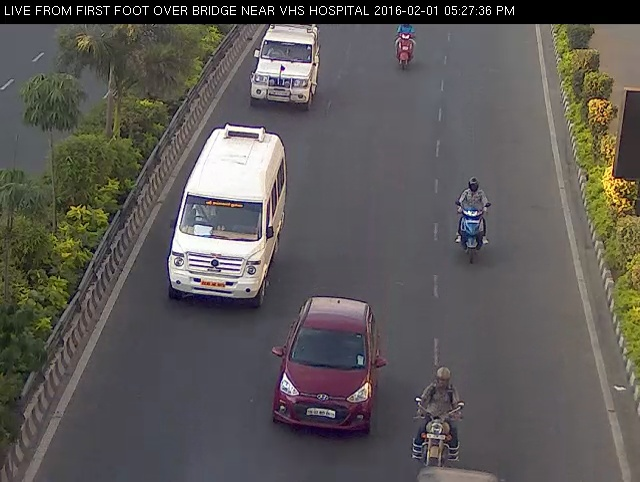Auto: (413, 465, 506, 482)
Bus: (167, 120, 288, 315)
Car: (270, 294, 390, 444), (241, 14, 332, 115)
Person: (403, 362, 489, 470), (452, 167, 497, 274), (389, 23, 422, 81)
